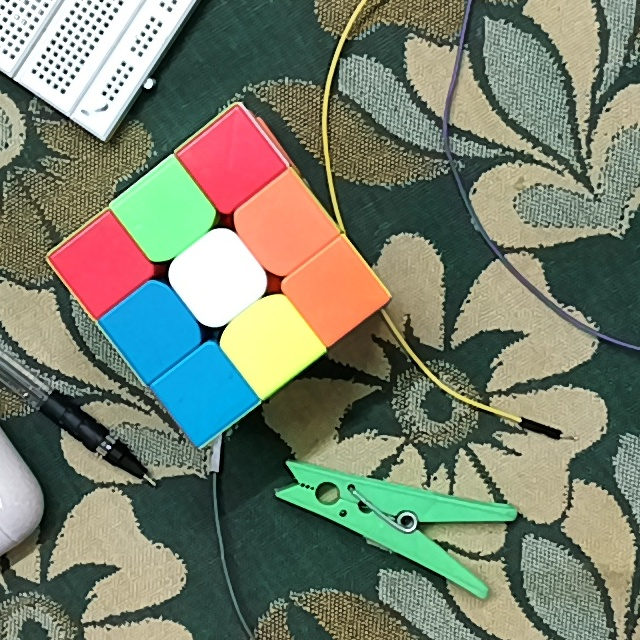tile: (254, 199, 312, 255), (187, 252, 246, 307), (202, 135, 261, 189), (309, 263, 363, 322), (122, 304, 179, 357), (138, 186, 193, 240), (180, 366, 233, 422), (243, 315, 296, 370), (77, 238, 130, 292)
